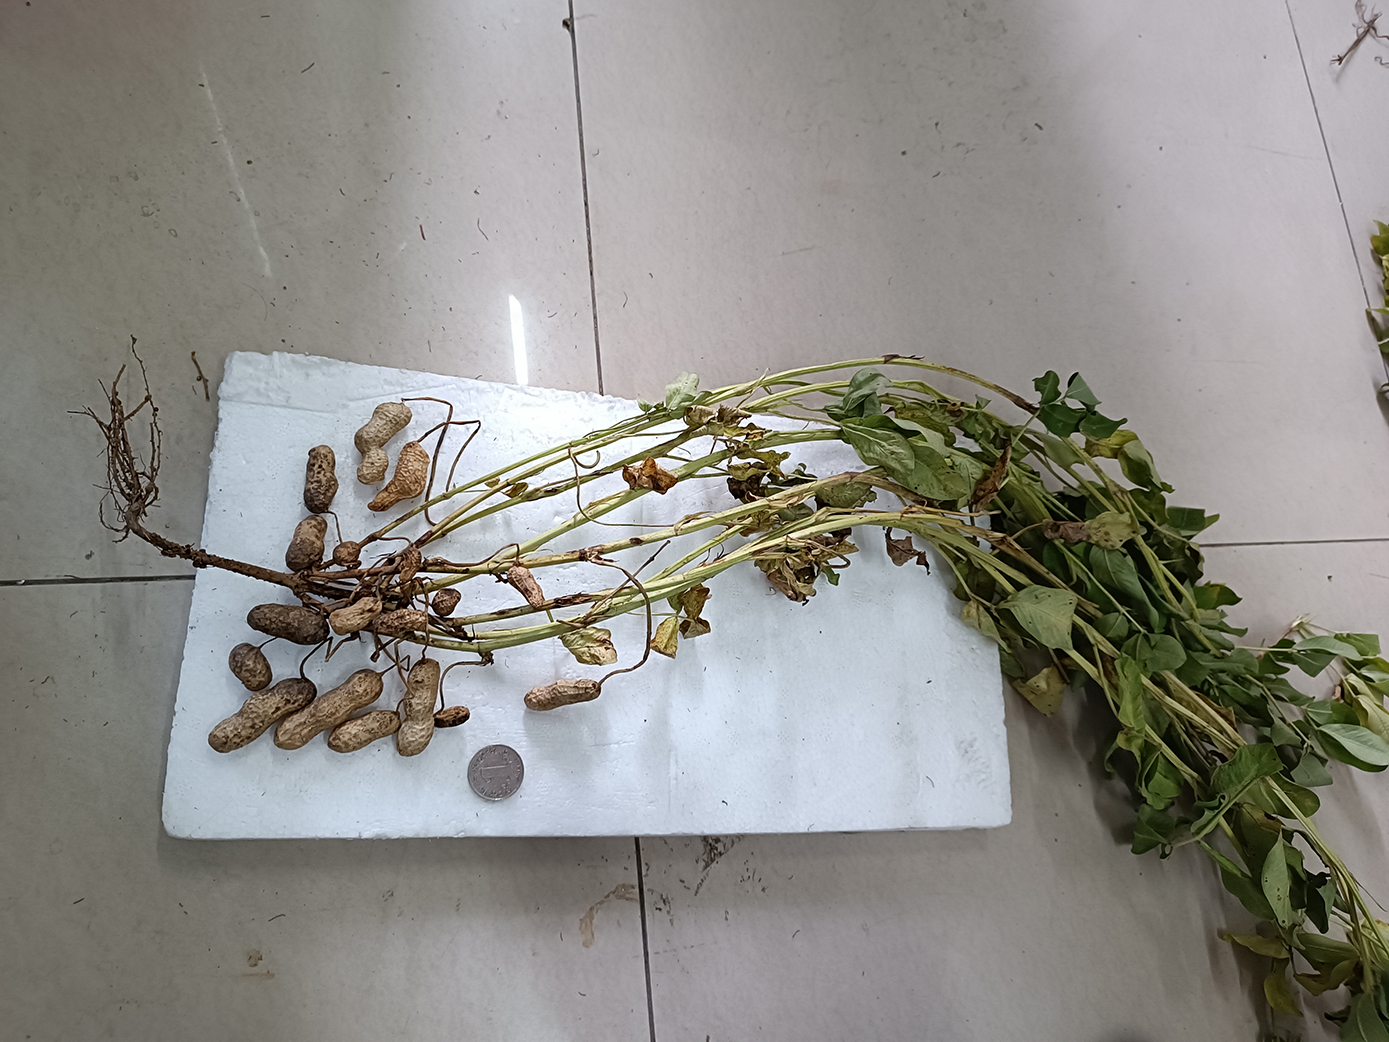h: (274, 669, 384, 751), (205, 678, 320, 753), (354, 401, 412, 484), (368, 442, 430, 511), (395, 659, 438, 757), (327, 711, 402, 753), (301, 445, 342, 516), (283, 516, 328, 574), (524, 679, 601, 713), (327, 597, 382, 635), (508, 565, 545, 611), (372, 609, 425, 639), (398, 548, 421, 589), (432, 587, 462, 617), (333, 541, 363, 569), (431, 706, 470, 727)
l: (247, 603, 329, 645), (229, 642, 274, 693)
